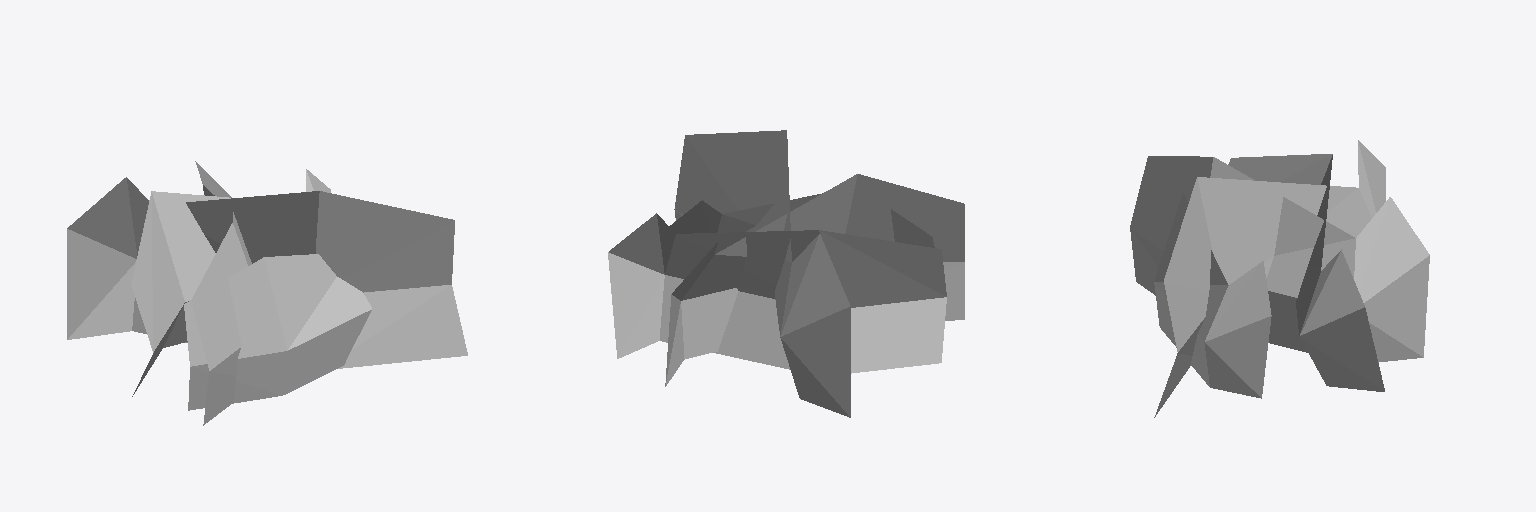
Rendered from GrassPatch01.obj.
3 renders of one model, left to right at view 1: azimuth 30°, elevation 25°; view 2: azimuth 150°, elevation 25°; view 3: azimuth 270°, elevation 25°, orthographic.
Parts seen in each view (by area): view 1: GrassPatch01; view 2: GrassPatch01; view 3: GrassPatch01.
Part boxes in pixels (left/top/right/bottom): GrassPatch01: left=67, top=161, right=467, bottom=425; GrassPatch01: left=608, top=130, right=964, bottom=417; GrassPatch01: left=1130, top=140, right=1429, bottom=417.
Bounding box in the file's own units: 61.18 × 35.25 × 53.26.